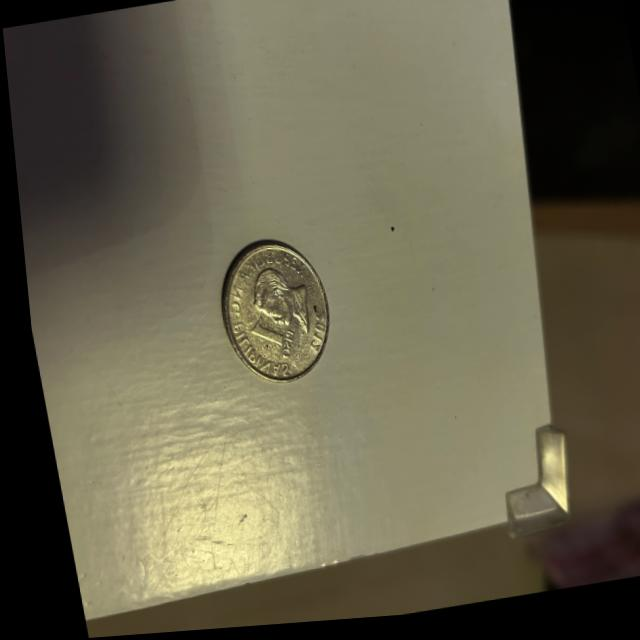1_Old_Front: (237, 310, 290, 369)
